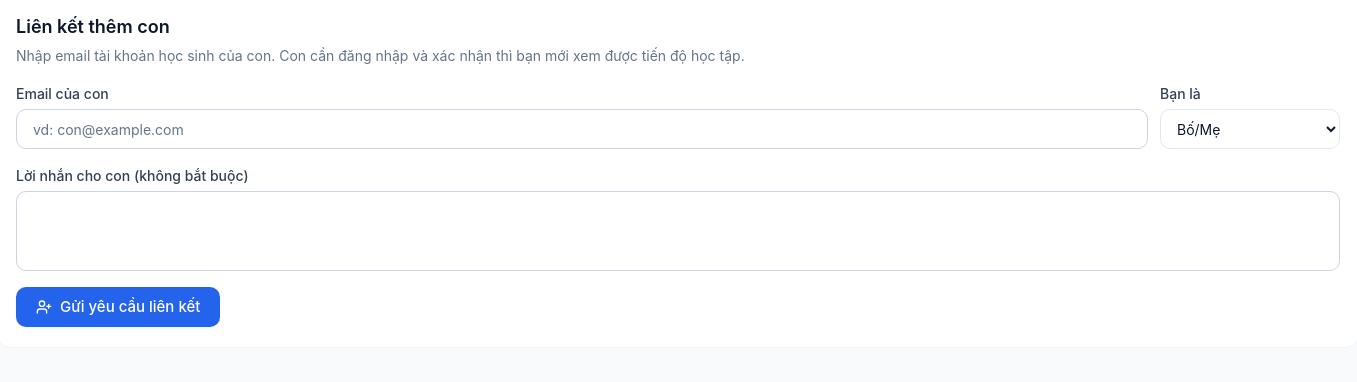
Test: LinkChildForm - STUDENT_NOT_FOUND (C5) › 404 hiện câu backend trả trong form, không toast thành công, không xoá email đã nhập
The width and height of the screenshot is (1357, 382).
Type "khong-co@example.com" into the field labelled "Email của con" at [582, 129], box [16,109,1148,149]
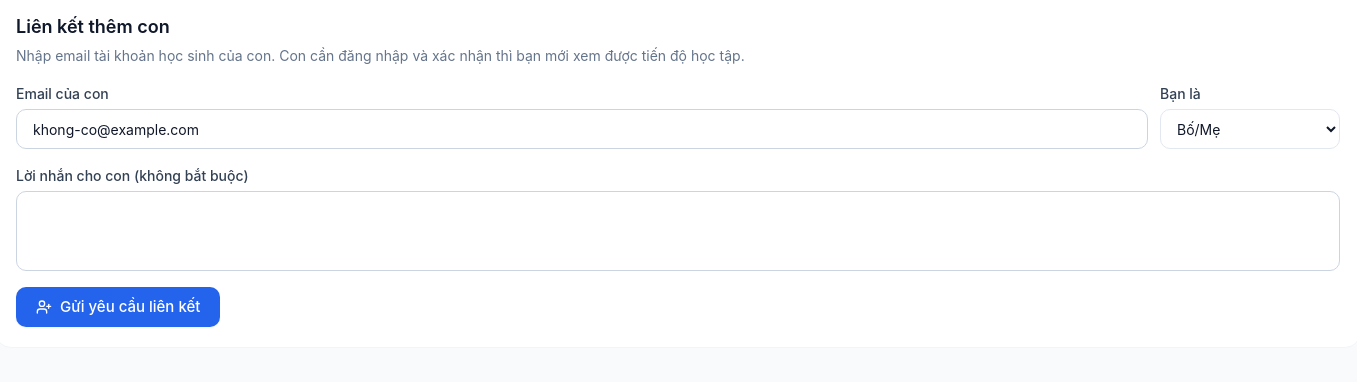
Click the button "Gửi yêu cầu liên kết" at [118, 307], box [16,287,220,327]
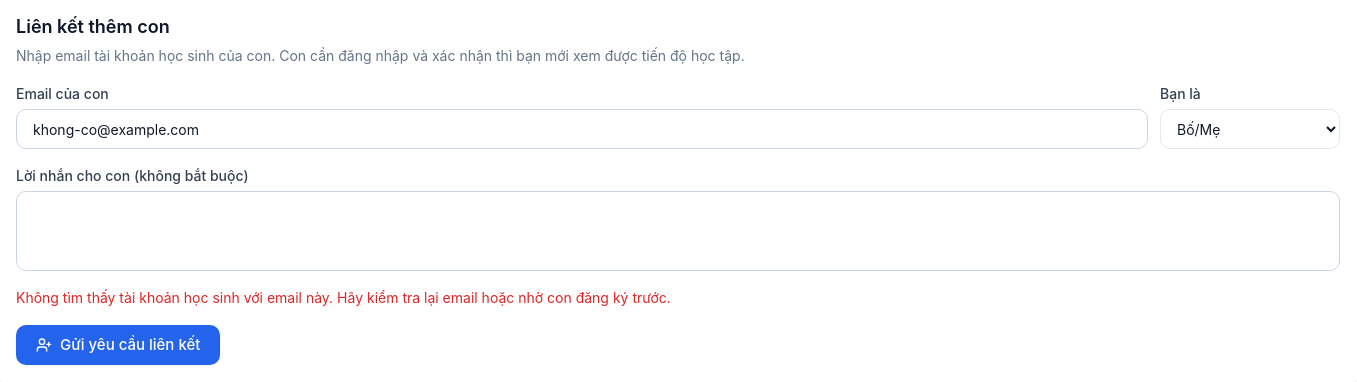
Expected: the message shows "Không tìm thấy tài khoản học sinh với email này. Hãy kiểm tra lại email hoặc nhờ con đăng ký trước.", [16,289,671,306]
